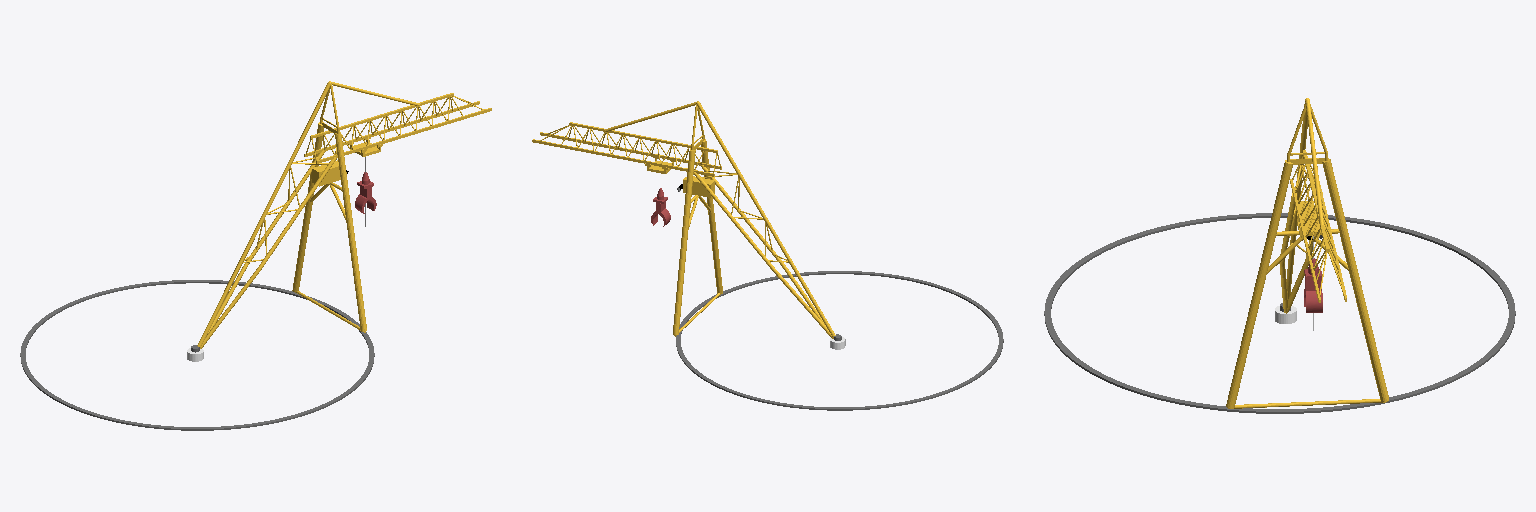
URDF robot description (rotating_crane):
<?xml version="1.0"?>
<!-- ATTENTION: When editing this file, it seems sometimes relevant in what order links and joints are defined.
    This shouldn't be true unless `URDF_MAINTAIN_LINK_ORDER` is used in `loadURDF()`, but it is.
    The flag doesn't seem to work, so DON'T rely on it. Even though we are accessing joints and links by name in the
    simulation, it sometimes doesn't work. Do experiment with placing any additions at the very end of this file. -->

<robot name="rotating_crane">

  <link name="tracks">
    <inertial>
      <origin xyz="0 0 0" />
      <mass value="0.0" />
      <inertia  ixx="1.0" ixy="0.0"  ixz="0.0"  iyy="100.0"  iyz="0.0"  izz="1.0" />
    </inertial>
    <visual>
      <origin xyz="0 0 0"/>
      <geometry>
        <mesh filename="tracks.stl" scale="0.01 0.01 0.01"/>
      </geometry>
      <material name="grey">
        <color rgba="0.5 0.5 0.5 1"/>
      </material>
    </visual>
    <collision>
      <origin xyz="0 0 0"/>
      <geometry>
        <mesh filename="tracks.stl" scale="0.01 0.01 0.01"/>
      </geometry>
    </collision>
  </link>

  <link name="gantry">
    <visual>
      <geometry>
        <mesh filename="crane.stl" scale="0.01 0.01 0.01"/>
      </geometry>
      <origin xyz="0 0 0"/>
      <material name="koneyellow">
        <color rgba="0.992 0.8117 0.282 1"/>
      </material>
    </visual>
    <inertial>
      <mass value="10000.0" />
      <inertia ixx="1.0" ixy="0.0" ixz="0.0" iyy="1.0" iyz="0.0" izz="1.0"/>
    </inertial>
    <collision>
      <geometry>
        <mesh filename="crane.stl" scale="0.01 0.01 0.01"/>
      </geometry>
      <origin xyz="0 0 0"/>
    </collision>
  </link>

	<joint name="tracks_to_gantry" type="continuous">
		<parent link="tracks"/>
		<child link="hub"/>
        <axis xyz="0 0 1"/>
	</joint>

  <link name="trolley">
    <visual>
      <geometry>
        <mesh filename="trolley.stl" scale="0.01 0.01 0.01"/>
      </geometry>
      <origin xyz="0 0 0"/>
      <material name="koneyellow"/>
    </visual>
    <collision>
      <geometry>
        <mesh filename="trolley.stl" scale="0.01 0.01 0.01"/>
      </geometry>
      <origin xyz="0 0 0"/>
    </collision>
    <inertial>
      <mass value="10"/>
      <inertia ixx="1.0" ixy="0.0" ixz="0.0" iyy="1.0" iyz="0.0" izz="1.0"/>
    </inertial>
  </link>

  <joint name="gantry_to_trolley" type="prismatic">
    <axis xyz="1 0 0"/>
    <origin xyz="2.5 0.0 2.0"/>
    <parent link="gantry"/>
    <child link="trolley"/>
    <limit effort="1000.0" lower="0" upper="1.5" velocity="1"/>
  </joint>

  <link name="hoist">
    <visual>
      <geometry>
        <cylinder radius="0.003" length="1"/>
      </geometry>
        <origin xyz="0 0 -0.5" />
      <material name="white">
        <color rgba="1 1 1 1"/>
      </material>
    </visual>
    <inertial>
        <origin xyz="0 0 -0.5" />
      <mass value="10"/>
      <inertia ixx="1.0" ixy="0.0" ixz="0.0" iyy="1.0" iyz="0.0" izz="1.0"/>
    </inertial>
    <!-- Caution: Without a collision spec for the hoist, bullet refuses to move the gantry (???) -->
    <collision>
      <geometry>
        <cylinder radius="0.003" length="1"/>
      </geometry>
        <origin xyz="0 0 -0.5" />
    </collision>
  </link>

  <joint name="trolley_to_hoist" type="prismatic">
    <axis xyz="0 0 1"/>
    <origin xyz="0 0 0"/>
    <parent link="trolley"/>
    <child link="hoist"/>
    <limit lower="-1" upper="0" velocity="1"/>
  </joint>


  <link name="hub">
    <visual>
      <geometry>
        <cylinder radius="0.1" length="0.1"/>
      </geometry>
      <origin xyz="0 0 0"/>
      <material name="white">
        <color rgba="1 1 1 1"/>
      </material>
    </visual>
    <inertial>
      <mass value="0"/>
      <inertia ixx="1.0" ixy="0.0" ixz="0.0" iyy="1.0" iyz="0.0" izz="1.0"/>
    </inertial>
    <collision>
      <geometry>
        <cylinder radius="0.1" length="0.1"/>
      </geometry>
      <origin xyz="0 0 0"/>
    </collision>
  </link>

  <joint name="hub_to_gantry" type="revolute">
    <axis xyz="0 0 1"/>
    <origin xyz="0.0 0.0 0.0"/>
    <parent link="hub"/>
    <child link="gantry"/>
    <limit effort="1000.0" lower="0.1" upper="0.1" velocity="5"/>
  </joint>

  <joint name="hoist_to_grapple_base" type="fixed">
    <origin xyz="0.0 0.0 -0.5"/>
    <parent link="hoist"/>
    <child link="grapple_base"/>
  </joint>

  <link name="grapple_base">
    <visual>
      <geometry>
        <mesh filename="grappleBase.stl" scale="0.01 0.01 0.01"/>
      </geometry>
      <origin rpy="0 0 0 " xyz="0 0 0"/>
    <material name="reddish">
      <color rgba="0.721 0.352 0.352 1"/>
    </material>
    </visual>
   <inertial>
    <mass value="0"/>
    <inertia ixx="1.0" ixy="0.0" ixz="0.0" iyy="1.0" iyz="0.0" izz="1.0"/>
  </inertial>
  <collision>
    <geometry>
      <mesh filename="grappleBase.stl" scale="0.01 0.01 0.01"/>
    </geometry>
    <origin rpy="0 0 0 " xyz="0 0 0"/>
  </collision>
  </link>

  <joint name="grapple_base_to_grapple_body" type="revolute">
    <axis xyz="0 0 1"/>
    <origin xyz="0.0 0.0 -0.09"/>
    <parent link="grapple_base"/>
    <child link="grapple_body"/>
     <limit effort="1000.0" lower="-15" upper="15" velocity="5"/>
  </joint>

   <link name="grapple_body">
    <visual>
      <geometry>
        <mesh filename="grappleCenter.stl" scale="0.01 0.01 0.01"/>
      </geometry>
      <origin rpy="0 0 0 " xyz="0 0 0"/>
      <material name="reddish"/>
    </visual>
   <inertial>
    <mass value="0"/>
    <inertia ixx="1.0" ixy="0.0" ixz="0.0" iyy="1.0" iyz="0.0" izz="1.0"/>
  </inertial>
  <collision>
    <geometry>
      <mesh filename="grappleCenter.stl" scale="0.01 0.01 0.01"/>
    </geometry>
    <origin rpy="0 0 0" xyz="0 0 0"/>
  </collision>
  </link>

  <joint name="grapple_body_to_left_grapple_jaw" type="revolute">
    <axis xyz="0 1 0"/>
    <origin rpy="0 0 0" xyz="0 0 0"/>
    <parent link="grapple_body"/>
    <child link="left_grapple_jaw"/>
    <limit effort="1000.0" lower="-0.5" upper="0.5" velocity="5"/>
  </joint>

  <link name="left_grapple_jaw">
    <visual>
      <origin rpy="0 0 0" xyz="0 0 0"/>
      <geometry>
        <mesh filename="grappleLeft.stl" scale="0.01 0.01 0.01"/>
      </geometry>
      <material name="reddish"/>
    </visual>
    <collision>
      <geometry>
        <mesh filename="grappleLeft.stl" scale="0.01 0.01 0.01"/>
      </geometry>
      <origin xyz="0 0 0"/>
    </collision>
   <inertial>
    <mass value="5.0"/>
    <inertia ixx="1.0" ixy="0.0" ixz="0.0" iyy="1.0" iyz="0.0" izz="1.0"/>
  </inertial>
  </link>

  <joint name="grapple_body_to_right_grapple_jaw" type="revolute">
    <axis xyz="0 1 0"/>
    <origin rpy="0 0 0" xyz="0 0 0"/>
    <parent link="grapple_body"/>
    <child link="right_grapple_jaw"/>
    <limit effort="1000.0" lower="-0.5" upper="0.5" velocity="5"/>
  </joint>


  <link name="right_grapple_jaw">
    <visual>
      <origin rpy="0 0 0" xyz="0 0 0"/>
      <geometry>
        <mesh filename="grappleRight.stl" scale="0.01 0.01 0.01"/>
      </geometry>
      <material name="reddish"/>
    </visual>
    <collision>
      <geometry>
        <mesh filename="grappleRight.stl" scale="0.01 0.01 0.01"/>
      </geometry>
      <origin xyz="0 0 0"/>
    </collision>
    <inertial>
    <mass value="5.0"/>
    <inertia ixx="1.0" ixy="0.0" ixz="0.0" iyy="1.0" iyz="0.0" izz="1.0"/>
  </inertial>
  </link>

    <!-- Caution: Placing this further to the top of this file causes the crane's behaviour to fuckup ??? -->
  <link name="camera_housing">
      <visual>
          <geometry>
              <box size="0.05 0.05 0.05" />
          </geometry>
          <material name="black" >
              <color rgba="0 0 0 1" />
          </material>
      </visual>
  </link>

  <joint name="gantry_to_camera_housing" type="fixed">
        <origin xyz="2.2 0 1.8" rpy="0 0.5 0"/>
    <parent link="gantry"/>
    <child link="camera_housing"/>
  </joint>

  <link name="lidar_housing">
      <visual>
          <geometry>
            <cylinder radius="0.02" length="0.05"/>
          </geometry>
          <material name="gray" >
              <color rgba="0.5 0.5 0.5 1" />
          </material>
      </visual>
  </link>

  <joint name="gantry_to_lidar_housing" type="fixed">
        <origin xyz="2.2 0.1 1.8" rpy="0 0.5 0"/>
    <parent link="gantry"/>
    <child link="lidar_housing"/>
  </joint>

</robot>

--- What the picture shows (computed from the rendered views, not written in the file) ---
The picture shows the robot from 3 angles, left to right: view 1: azimuth 30°, elevation 25°; view 2: azimuth 150°, elevation 25°; view 3: azimuth 270°, elevation 25°; orthographic projection.
Robot: rotating_crane — 11 links, 10 joints (4 revolute, 1 continuous, 2 prismatic, 3 fixed); root link tracks; default pose: joints at zero except 1 at the middle of their limits (hub_to_gantry = 0.1).
Visible links, largest first — view 1: gantry, tracks; view 2: gantry, tracks; view 3: gantry, tracks.
Boxes of the visible links, x1,y1,x2,y2 form: gantry: [197, 81, 491, 348]; tracks: [20, 280, 374, 430]; gantry: [532, 101, 835, 338]; tracks: [676, 271, 1003, 410]; gantry: [1226, 98, 1388, 408]; tracks: [1044, 213, 1515, 413].
Bounding box of the posed robot: 6.36 × 4.22 × 3.1 m (x, y, z).
7 mesh visuals loaded from 7 distinct referenced files (7 binary STL).